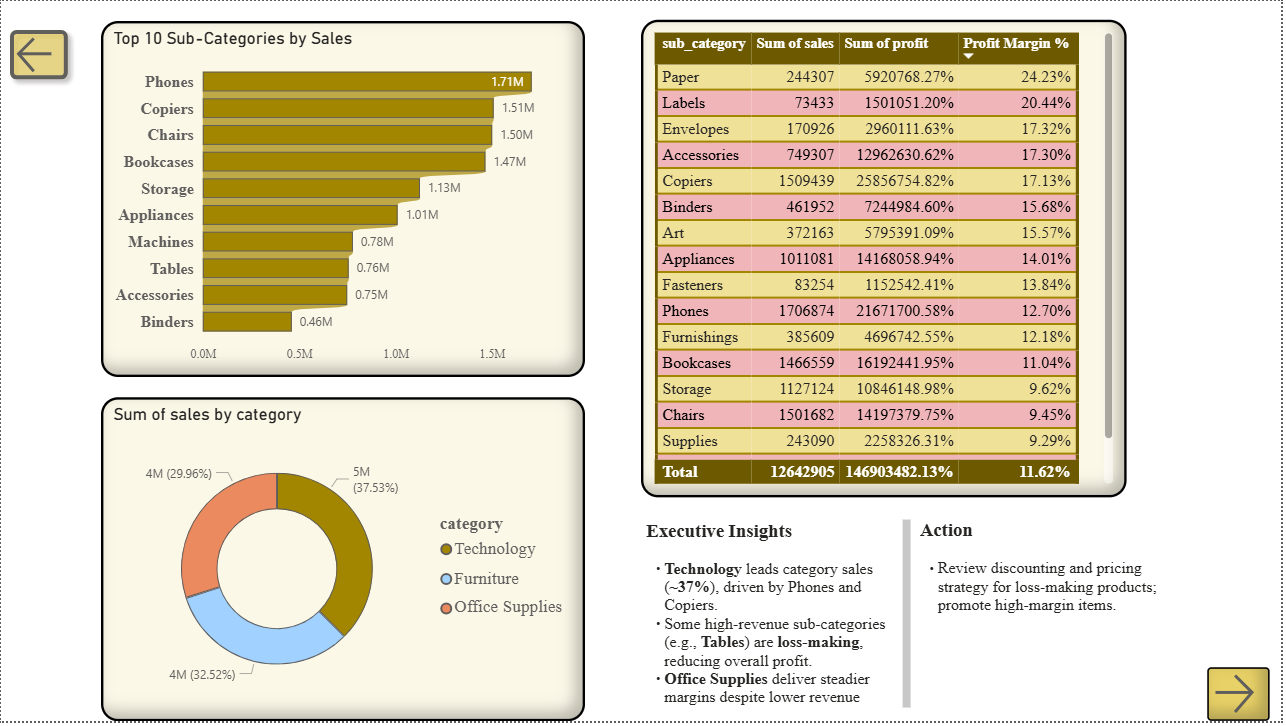

The dashboard page shown, as its layout file describes it:
{"tool":"powerbi","page":{"name":"Product Analysis","canvas":[1280,720],"ordinal":1},"visuals":[{"type":"barChart","title":"Top 10 Sub-Categories by Sales","fields":{"Y":["Sum(SuperStoreOrders.sales)"],"Category":["SuperStoreOrders.sub_category"]},"box":[100.3,19.6,484.2,355.8],"z":0},{"type":"donutChart","fields":{"Y":["Sum(SuperStoreOrders.sales)"],"Category":["SuperStoreOrders.category"]},"box":[100.3,396.2,484.2,324.1],"z":1000},{"type":"tableEx","fields":{"Values":["SuperStoreOrders.sub_category","Sum(SuperStoreOrders.sales)","Sum(SuperStoreOrders.profit)","SuperStoreOrders.Profit Margin %"]},"box":[639.5,19.2,485.8,477.5],"z":2000},{"type":"actionButton","box":[1205.7,666.2,62.4,53.8],"z":3000},{"type":"actionButton","box":[0,19.6,75.8,67.3],"z":4000},{"type":"textbox","box":[639.5,513.2,274.4,205.8],"z":4001},{"type":"textbox","box":[913.9,513.2,253.9,205.8],"z":4002}]}

Visuals, with their boxes in screenshot pixels (x1, y1, x2, y2), scaled from the page's 1280x720 canvas onto the 1286x726 screenshot:
"Top 10 Sub-Categories by Sales" barChart: region(101, 20, 587, 379)
donutChart - Sum(SuperStoreOrders.sales) x SuperStoreOrders.category: region(101, 400, 587, 725)
tableEx - SuperStoreOrders.sub_category x Sum(SuperStoreOrders.sales): region(642, 19, 1131, 501)
actionButton: region(1211, 672, 1274, 725)
actionButton: region(0, 20, 76, 88)
textbox: region(642, 517, 918, 725)
textbox: region(918, 517, 1173, 725)
